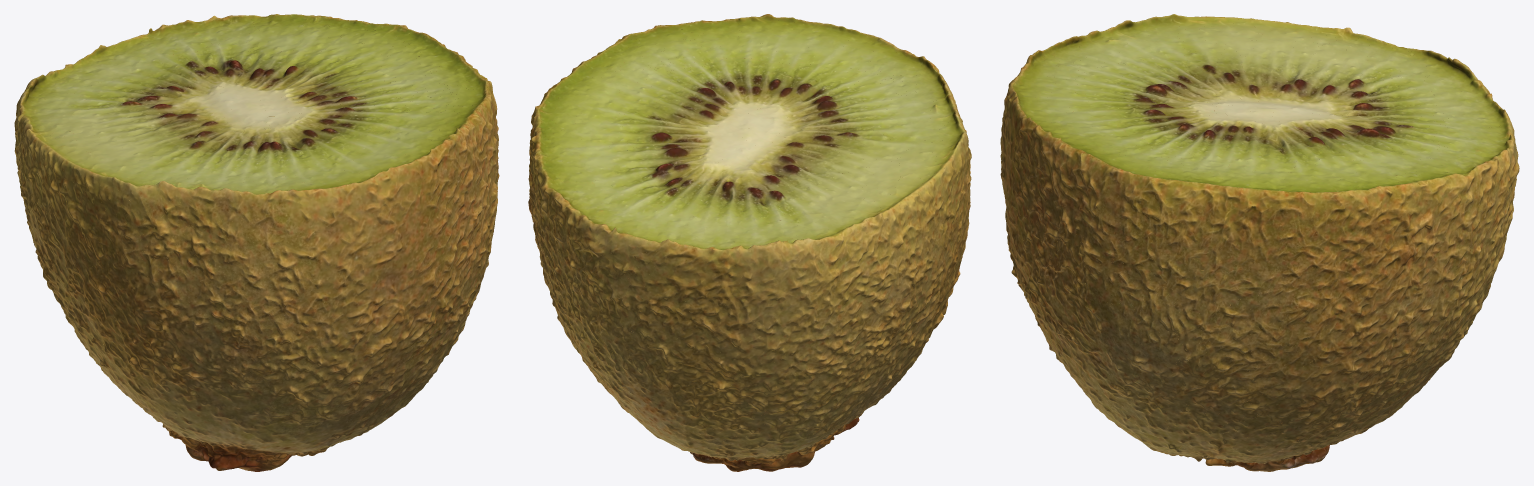
File: half_kiwi.optimized.glb
The picture shows the model from 3 angles, left to right: view 1: azimuth 30°, elevation 25°; view 2: azimuth 150°, elevation 25°; view 3: azimuth 270°, elevation 25°; orthographic projection. The views are drawn at different scales.
Parts seen in each view (by area): view 1: Object_2; view 2: Object_2; view 3: Object_2.
Boxes of the visible parts, x1=… form: Object_2: x1=14, y1=14, x2=499, y2=471; Object_2: x1=528, y1=14, x2=971, y2=471; Object_2: x1=1000, y1=14, x2=1519, y2=471.
Size of the model in its own units: 1.15 by 1.01 by 1.26.
Materials: 1 (1 with a texture image).
